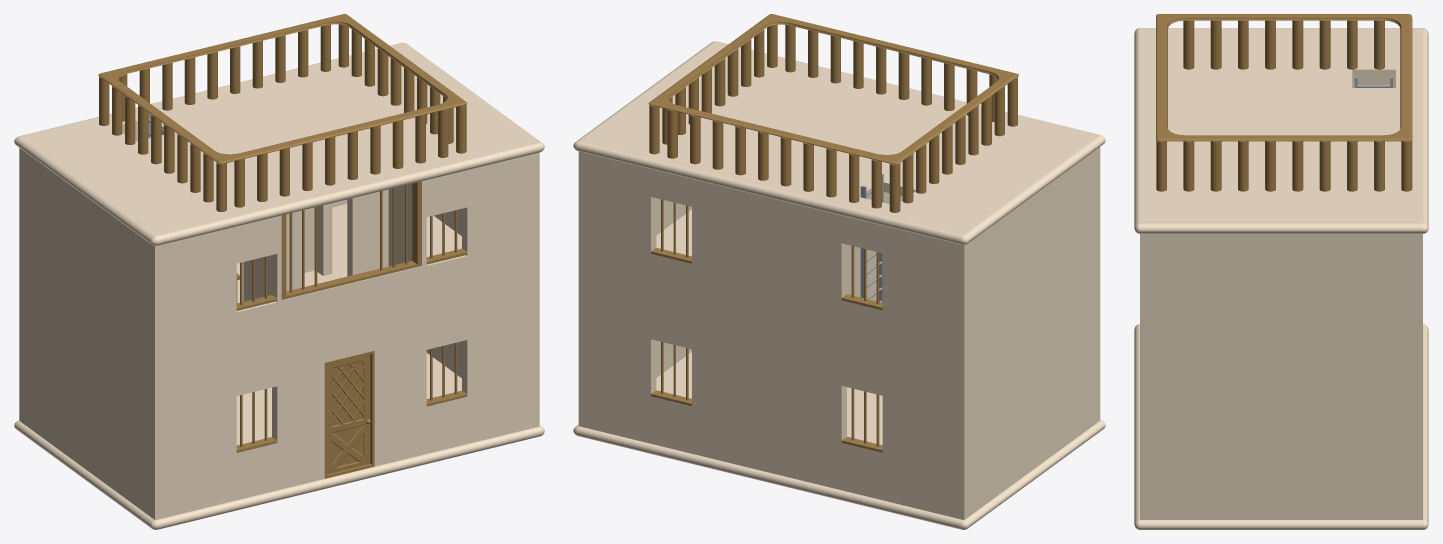
The model's file is house5.glb.
3 renders of one model, left to right at view 1: azimuth 30°, elevation 25°; view 2: azimuth 150°, elevation 25°; view 3: azimuth 270°, elevation 25°, orthographic. The views are drawn at different scales.
Visible parts, largest first — view 1: obj_108, obj_161, obj_156, obj_3, obj_50, obj_22, obj_136, obj_135, obj_165, obj_44, obj_4, obj_20 (+7 smaller); view 2: obj_109, obj_122, obj_108, obj_3, obj_50, obj_22, obj_135, obj_136, obj_4, obj_20, obj_47; view 3: obj_108, obj_4, obj_20, obj_135, obj_22, obj_136, obj_64, obj_67, obj_68, obj_71, obj_72, obj_57 (+12 smaller).
Boxes of the visible parts, <box> form: obj_108: <box>14,42,544,245</box>; obj_161: <box>164,296,530,517</box>; obj_156: <box>164,155,530,375</box>; obj_3: <box>19,288,164,520</box>; obj_50: <box>19,148,164,378</box>; obj_22: <box>14,353,544,529</box>; obj_136: <box>19,204,539,387</box>; obj_135: <box>98,14,467,164</box>; obj_165: <box>327,354,370,474</box>; obj_44: <box>347,189,388,276</box>; obj_4: <box>426,294,539,428</box>; obj_20: <box>434,152,539,286</box>; obj_109: <box>587,295,955,517</box>; obj_122: <box>587,153,955,375</box>; obj_108: <box>573,41,1105,244</box>; obj_3: <box>955,288,1100,519</box>; obj_50: <box>955,147,1100,377</box>; obj_22: <box>573,352,1105,529</box>; obj_135: <box>648,14,1018,164</box>; obj_136: <box>578,209,1100,386</box>; obj_4: <box>578,293,691,428</box>; obj_20: <box>578,151,691,285</box>; obj_47: <box>847,192,902,301</box>; obj_108: <box>1134,28,1428,233</box>; obj_4: <box>1140,381,1422,519</box>; obj_20: <box>1140,234,1422,371</box>; obj_135: <box>1156,14,1411,141</box>; obj_22: <box>1134,324,1428,529</box>; obj_136: <box>1140,372,1422,381</box>; obj_64: <box>1401,140,1412,191</box>; obj_67: <box>1319,141,1330,191</box>; obj_68: <box>1292,141,1303,191</box>; obj_71: <box>1210,141,1221,191</box>; obj_72: <box>1183,141,1194,191</box>; obj_57: <box>1319,20,1330,69</box>.
Size of the model in its own units: 16.67 by 13.89 by 10.35.
